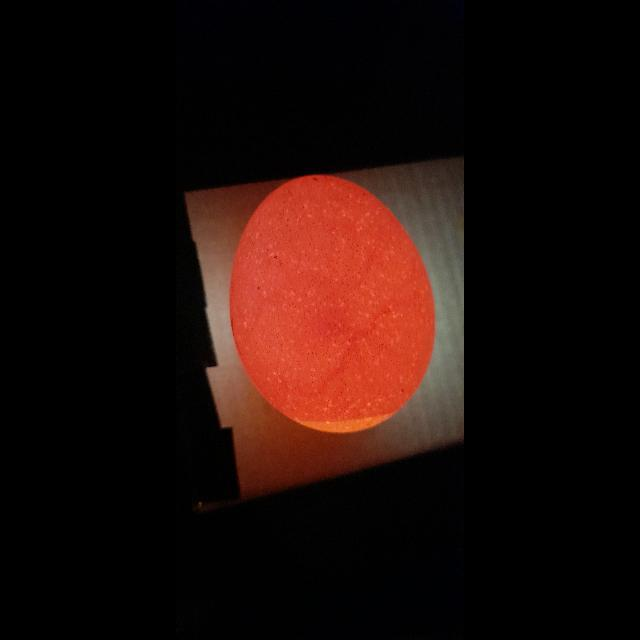Fertile: (230, 175, 438, 437)
